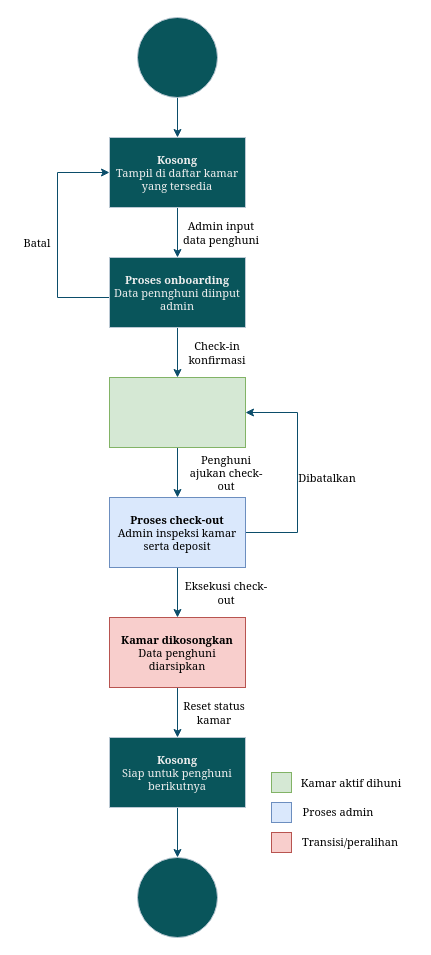
The diagram is 431 pixels wide and 955 high, and some of its shapes have lost their labels. The centre of each missing label's shape, as x and y in pixels:
Dihuni Status terkunci, akun penghuni aktif: [177,412]
SELESAI: [177,897]
START: [177,57]
